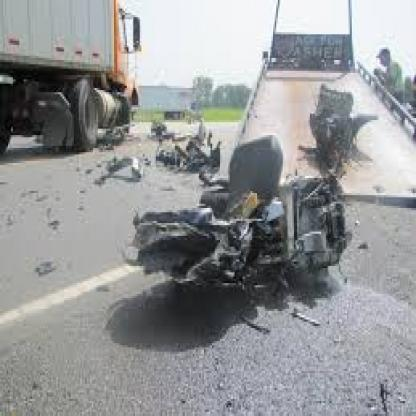accident: (99, 113, 365, 323)
